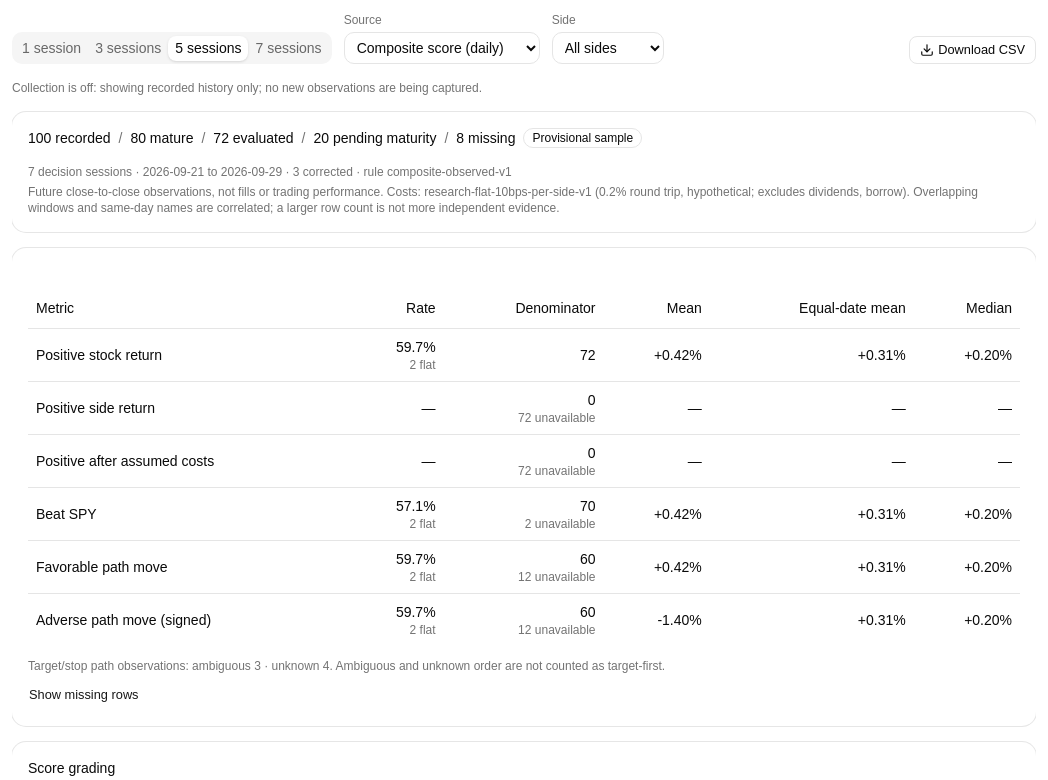
origin is only offered for follow-through
Expected: the field labelled "Origin" is not shown
Step 1. Select "Follow-through (selected)" in the dropdown labelled "Source" → point(442, 48), box 344,32 -> 540,64
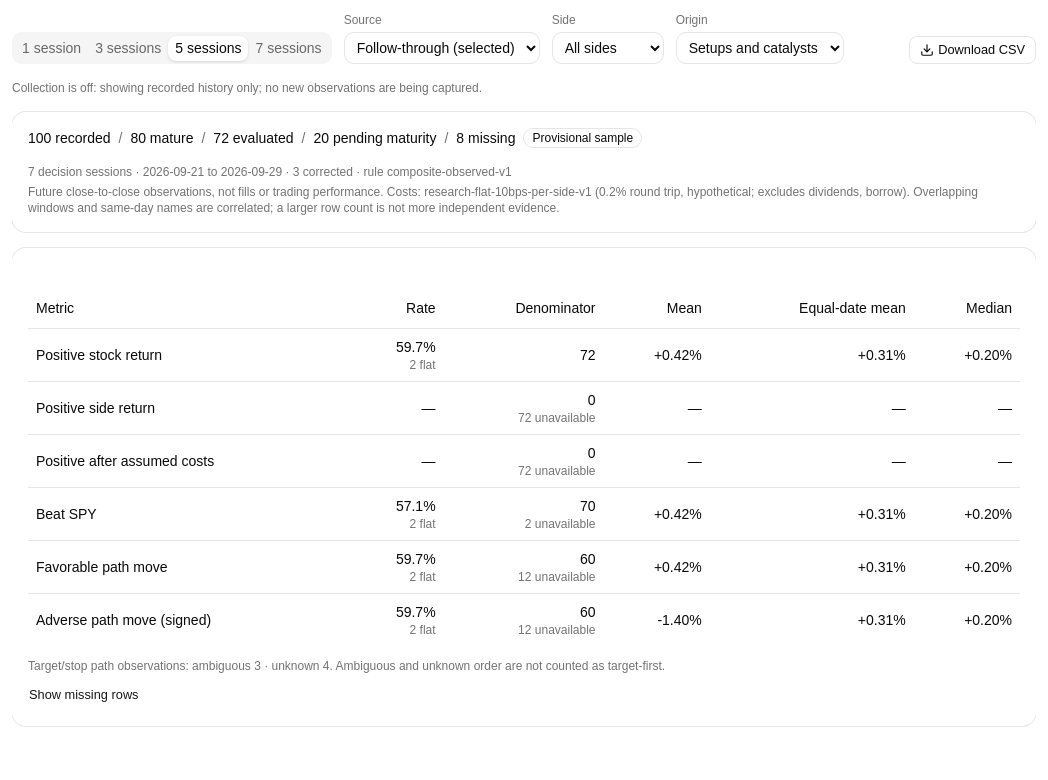
Expected: the dropdown labelled "Origin" is shown, 676,32 -> 844,64
